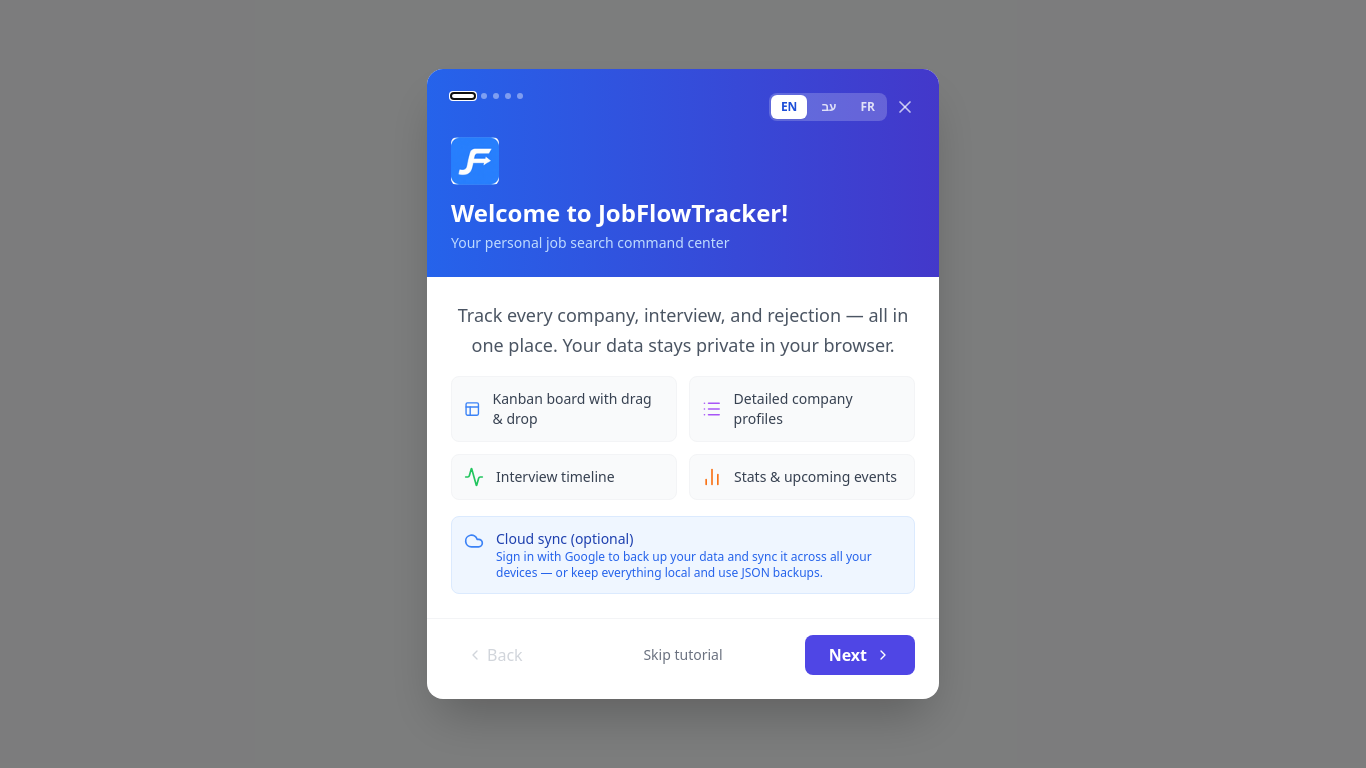
Test: Onboarding › navigating to last step shows "Let's go!" button
Click the button "Next": click(860, 655) [805,635,915,675]
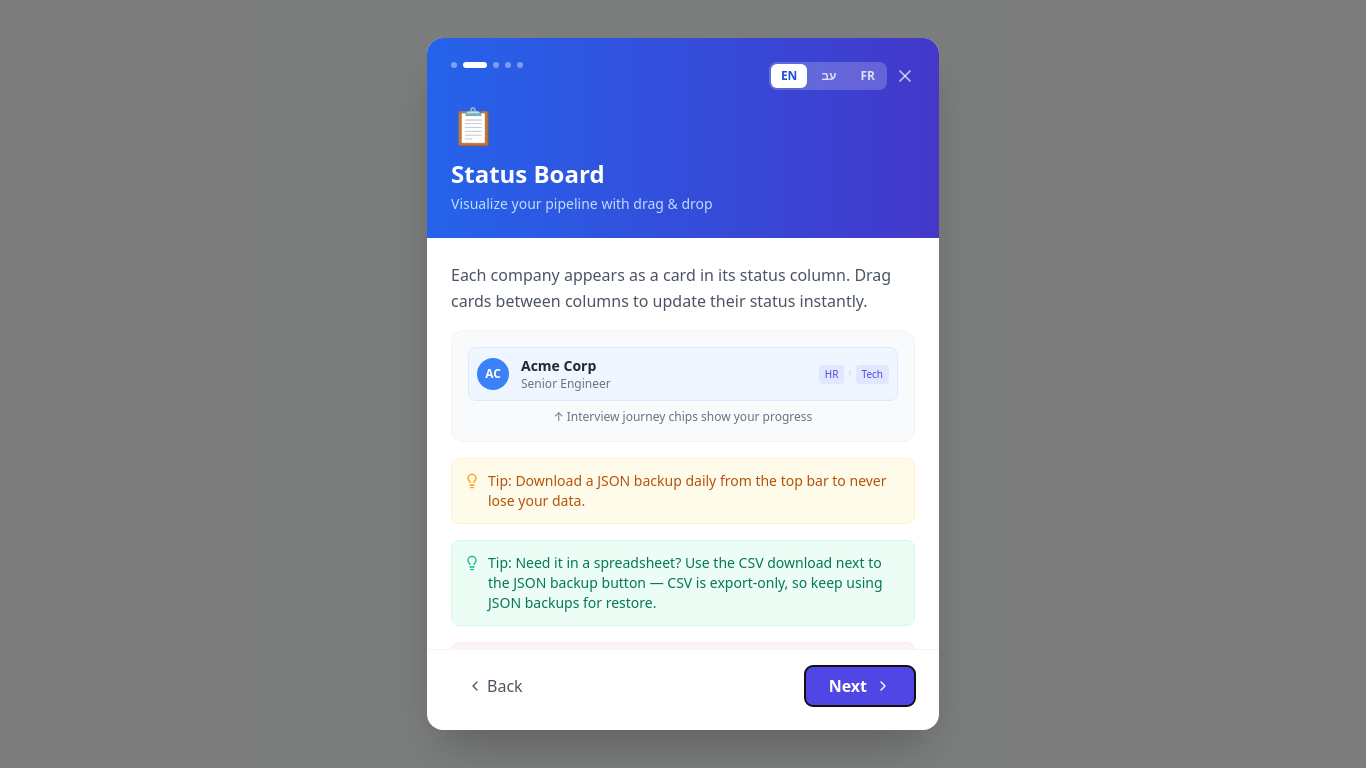
Click the button "Next": click(860, 686) [805,666,915,706]
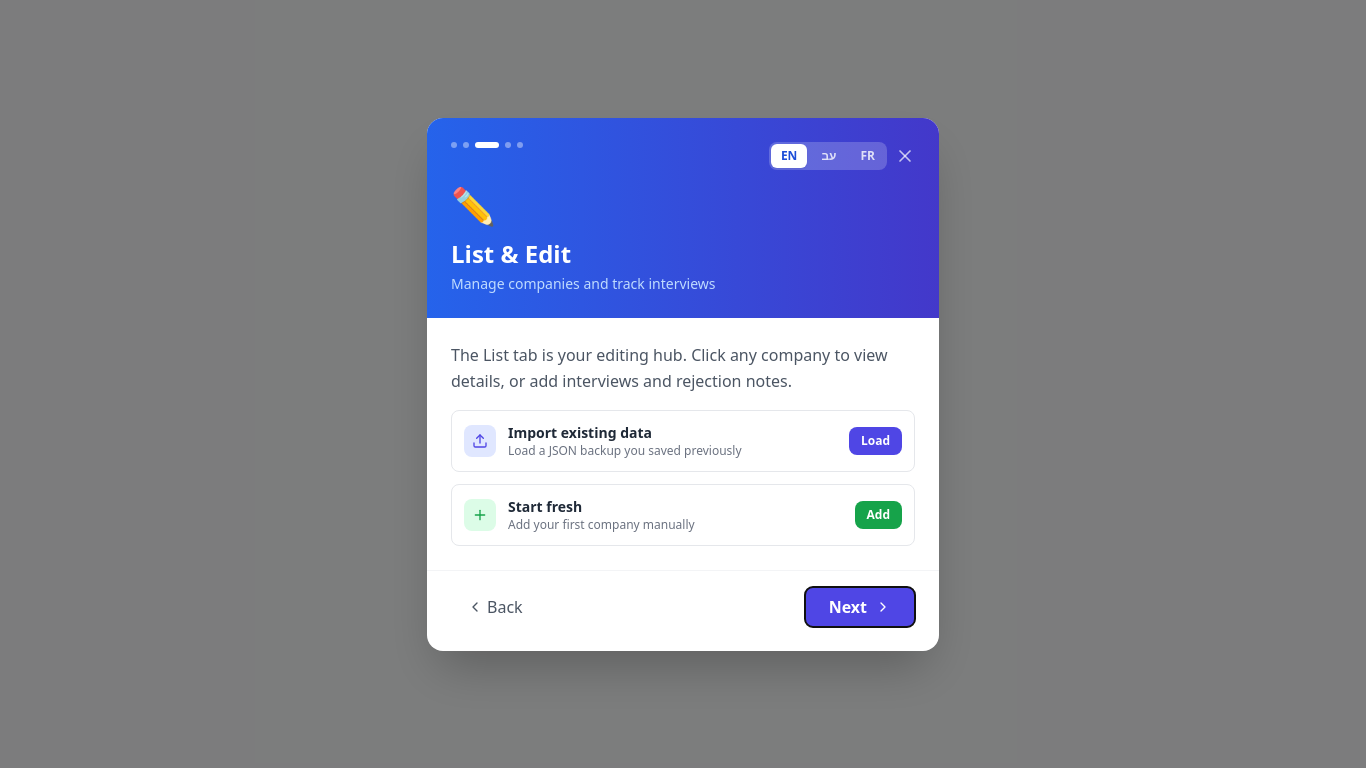
Click the button "Next": click(860, 606) [805,586,915,626]
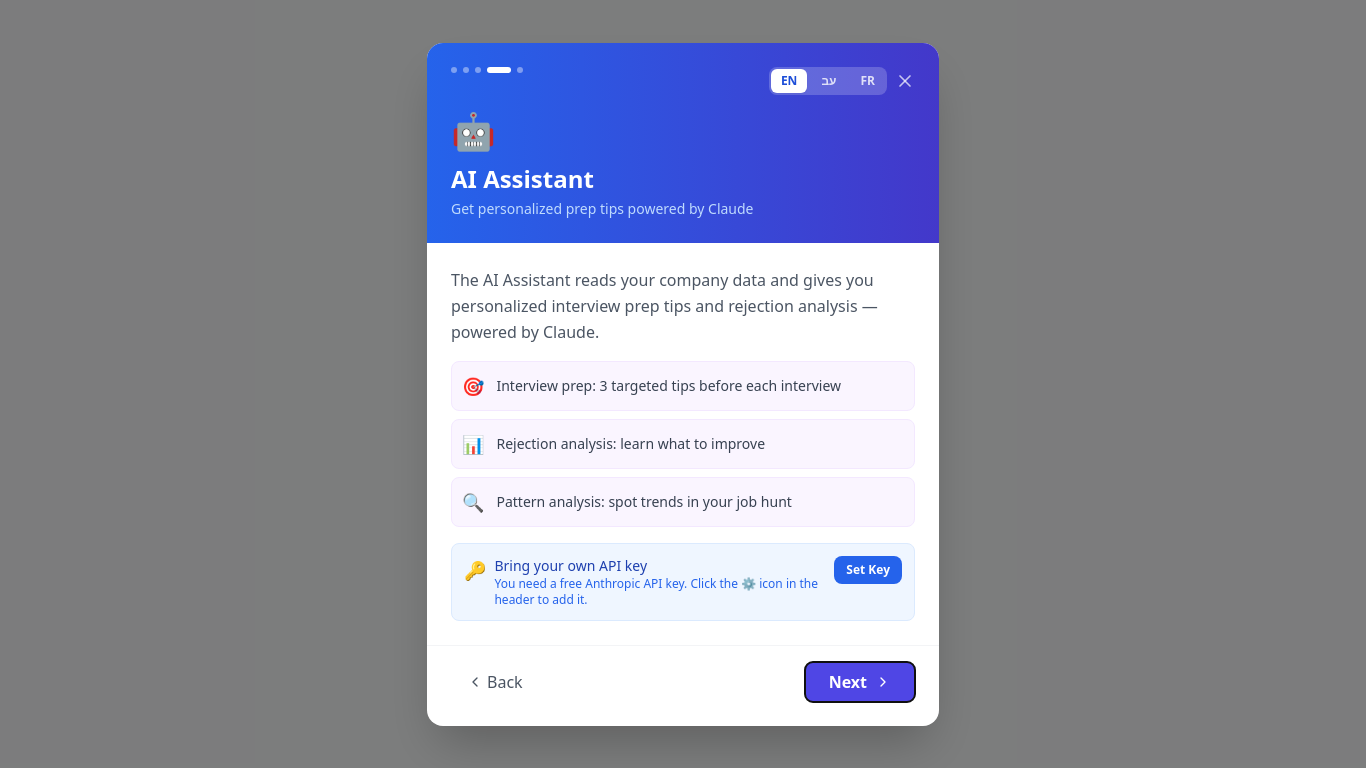
Click the button "Next": click(860, 682) [805,662,915,702]
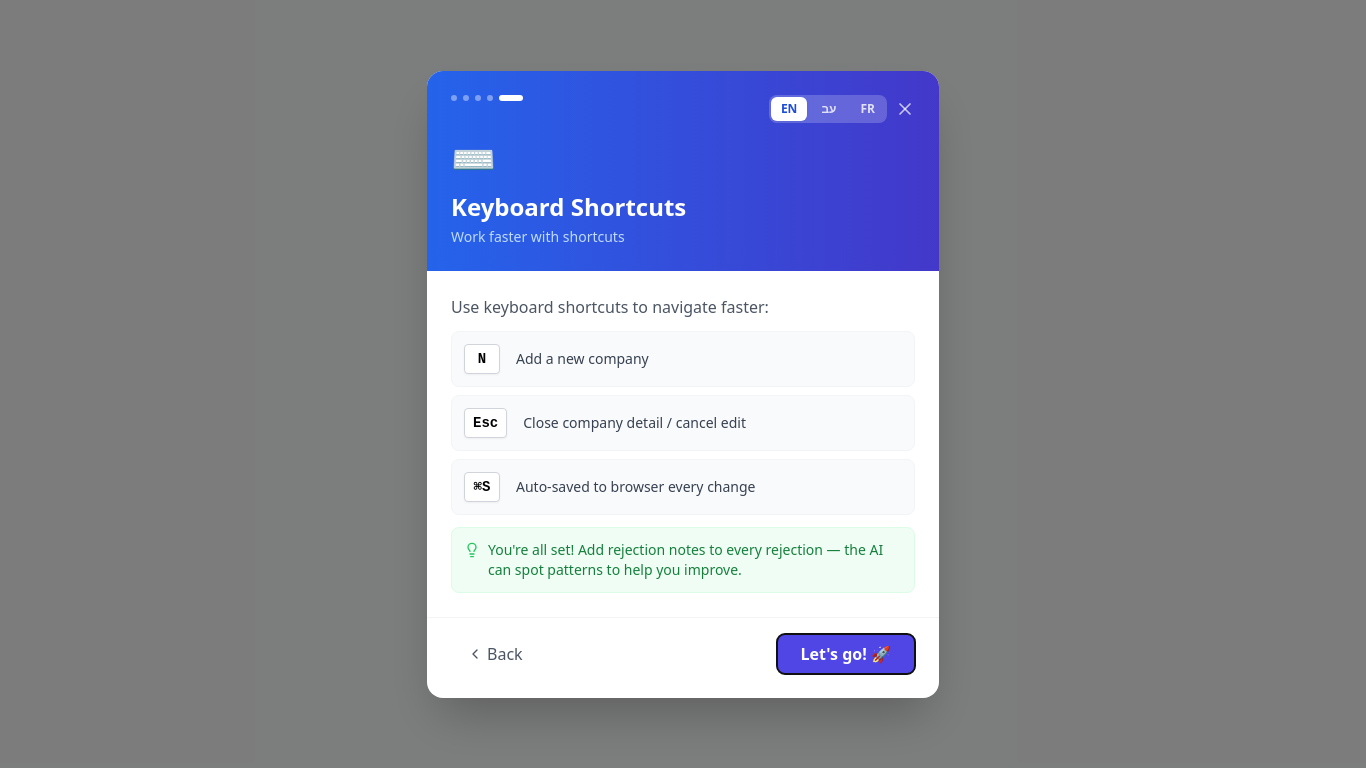
Expected: the button "Let's go! 🚀" is shown, [777,634,915,674]
